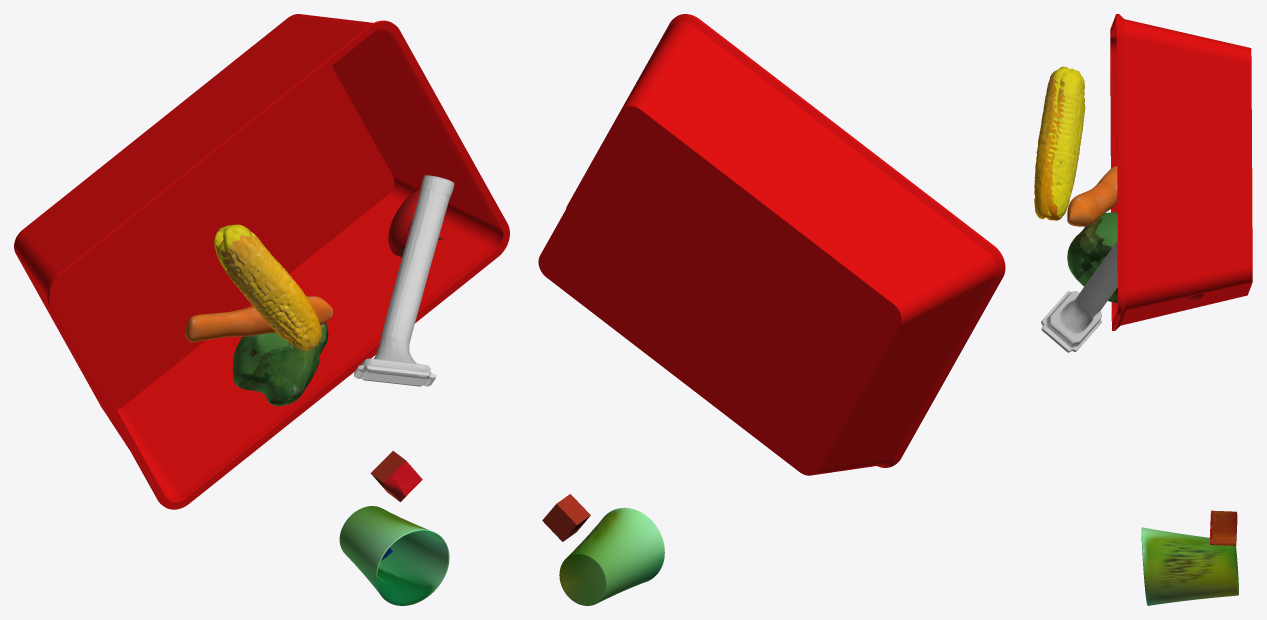
File: props-6.glb
3 views of the same model, side by side, from view 1: azimuth 30°, elevation 25°; view 2: azimuth 150°, elevation 25°; view 3: azimuth 270°, elevation 25° (orthographic). The views are drawn at different scales.
Visible parts, largest first — view 1: HCRG_Tray1321_SourceFit01_OpenShell_001, geometry_0_094, geometry_0_104, part0_photo0_009, geometry_0_095, part0_photo0_016, part0_fallback_016, part0_photo1_009, part0_fallback_009, part1_fallback_003, part0_photo2_007, face_02_003; view 2: HCRG_Tray1321_SourceFit01_OpenShell_001, geometry_0_104, face_03_003; view 3: HCRG_Tray1321_SourceFit01_OpenShell_001, geometry_0_104, part0_fallback_009, geometry_0_094, geometry_0_095, part0_photo2_004, part0_photo0_009, part0_photo0_016, part0_fallback_016, face_05_003, part0_photo1_015.
Part boxes in pixels (box(x1,y1,x2,y2)): HCRG_Tray1321_SourceFit01_OpenShell_001: box(14, 14, 509, 509); geometry_0_094: box(354, 175, 454, 386); geometry_0_104: box(339, 506, 449, 605); part0_photo0_009: box(224, 234, 321, 349); geometry_0_095: box(185, 296, 333, 342); part0_photo0_016: box(238, 322, 328, 404); part0_fallback_016: box(232, 333, 328, 406); part0_photo1_009: box(216, 245, 313, 350); part0_fallback_009: box(214, 224, 312, 345); part1_fallback_003: box(388, 189, 420, 255); part0_photo2_007: box(241, 345, 293, 401); face_02_003: box(384, 460, 422, 501); HCRG_Tray1321_SourceFit01_OpenShell_001: box(538, 14, 1005, 475); geometry_0_104: box(559, 507, 664, 605); face_03_003: box(542, 504, 576, 541); HCRG_Tray1321_SourceFit01_OpenShell_001: box(1110, 14, 1252, 330); geometry_0_104: box(1141, 527, 1238, 605); part0_fallback_009: box(1035, 66, 1085, 219); geometry_0_094: box(1041, 241, 1117, 352); geometry_0_095: box(1067, 166, 1117, 226); part0_photo2_004: box(1039, 79, 1065, 220); part0_photo0_009: box(1034, 74, 1061, 218); part0_photo0_016: box(1067, 220, 1117, 302); part0_fallback_016: box(1078, 212, 1117, 296); face_05_003: box(1209, 510, 1236, 539); part0_photo1_015: box(1078, 218, 1117, 301).
Bounding box in the file's own units: 0.487 × 0.6072 × 0.2131.
Materials: 25 (8 with a texture image).
